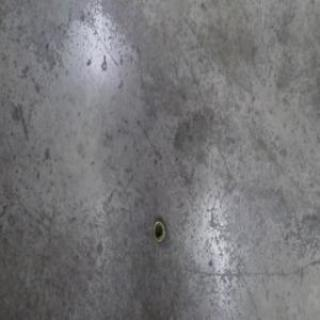Nuttrack_idkeyframe: (150, 216, 166, 245)
